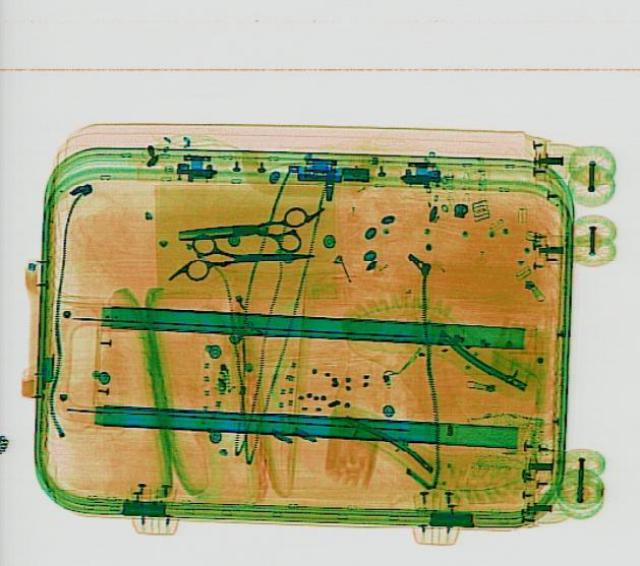Scissors: (176, 204, 306, 255), (183, 230, 313, 278)
